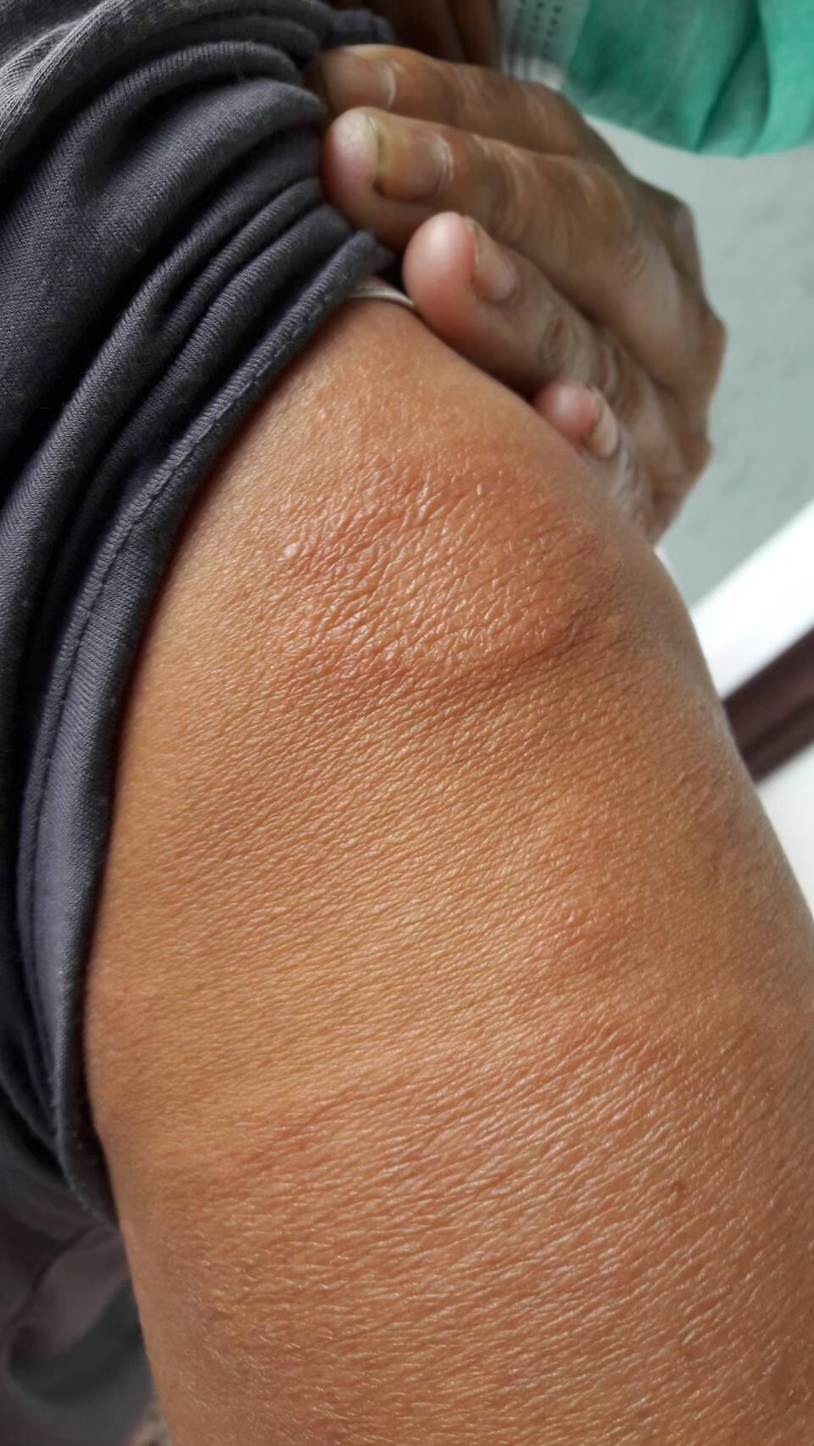Leprosy: (98, 978, 813, 1441), (261, 430, 640, 735)
